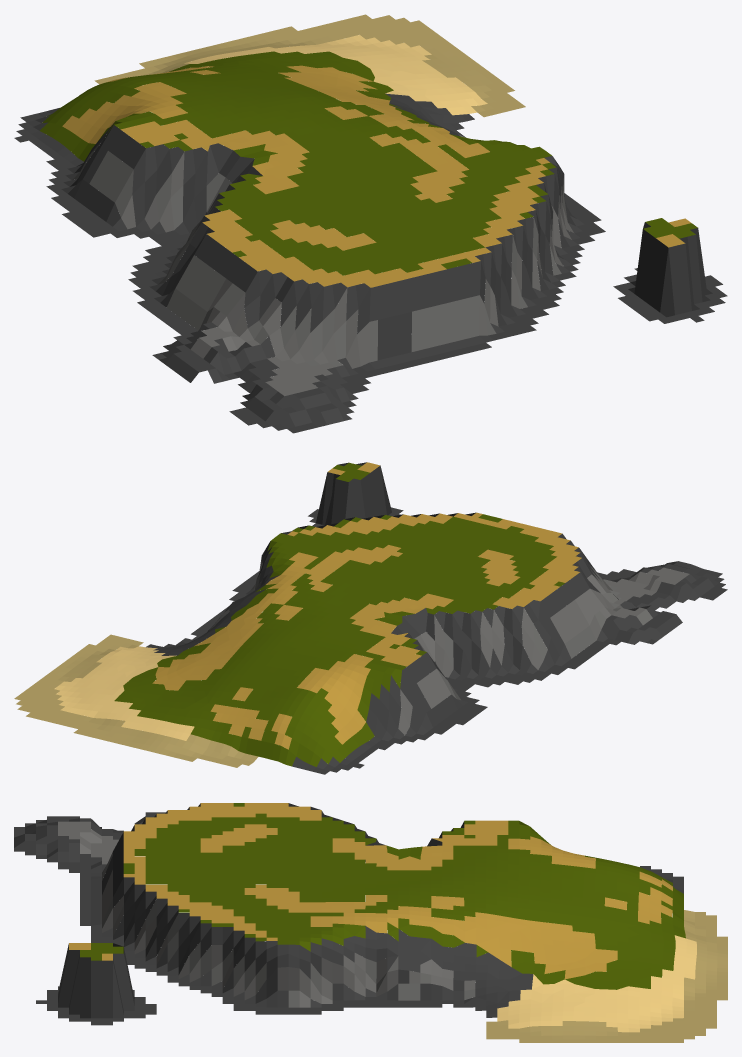
File: Island.glb
3 renders of one model, top to bottom at view 1: azimuth 30°, elevation 25°; view 2: azimuth 150°, elevation 25°; view 3: azimuth 270°, elevation 25°, orthographic. The views are drawn at different scales.
Parts seen in each view (by area): view 1: Plane.001; view 2: Plane.001; view 3: Plane.001.
Boxes of the visible parts, x1,y1,x2,y2 form: Plane.001: (14, 14, 727, 433); Plane.001: (14, 462, 727, 774); Plane.001: (14, 803, 727, 1042).
Bounding box in the file's own units: 80.3 × 9.17 × 107.
